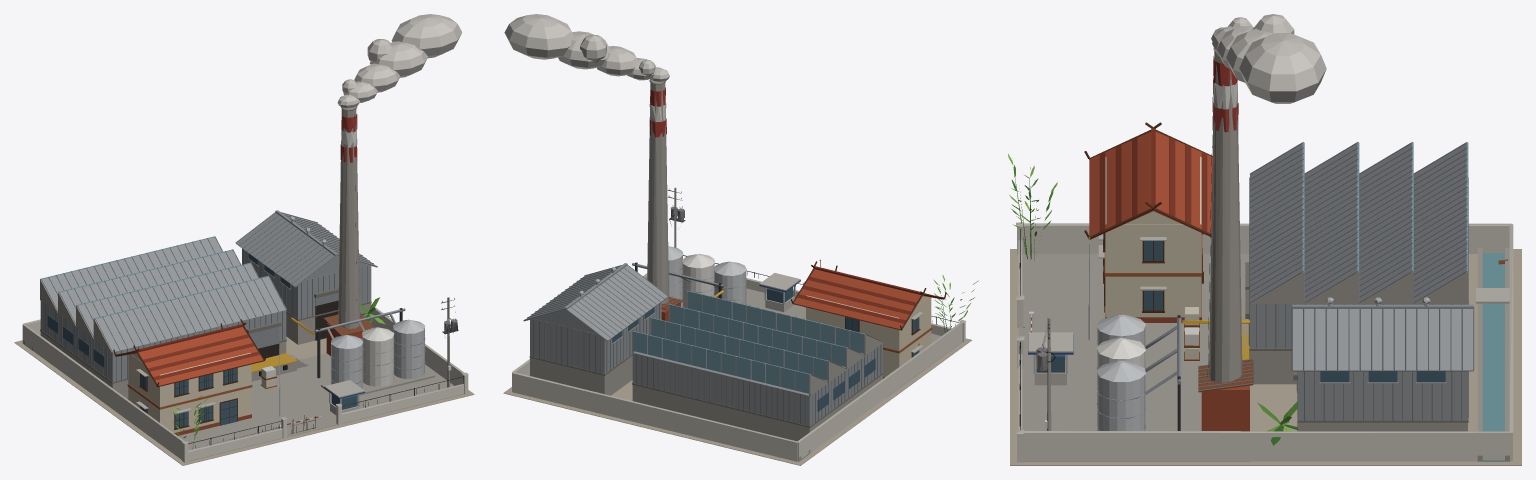
Rendered from factory_4.glb.
The picture shows the model from 3 angles, left to right: view 1: azimuth 30°, elevation 25°; view 2: azimuth 150°, elevation 25°; view 3: azimuth 270°, elevation 25°; orthographic projection. The views are drawn at different scales.
Parts seen in each view (by area): view 1: body, windows; view 2: body, windows; view 3: body, windows.
Boxes of the visible parts, <box> form: body: <box>14,14,474,465</box>; windows: <box>47,254,357,428</box>; body: <box>503,14,978,465</box>; windows: <box>612,287,919,411</box>; body: <box>1008,14,1521,465</box>; windows: <box>1036,241,1445,430</box>.
Bounding box in the file's own units: 40.6 × 31.39 × 32.01.
